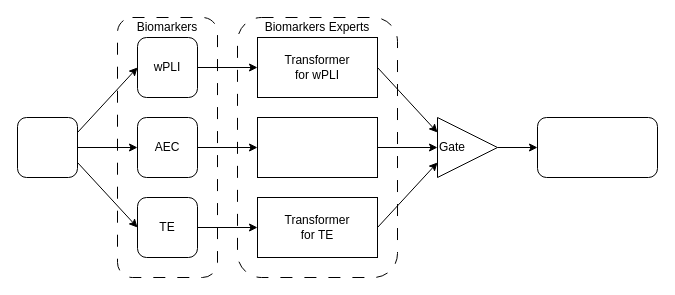
Image size: 675x295. Some labels were removed from this diagram. Here are the shapes that lost their labels. From the top down, the box of each, then its label:
(16, 116, 78, 178): Raw Signal
(256, 116, 378, 178): Transformer for AEC
(536, 116, 658, 178): SOZ Probability Distributioin
